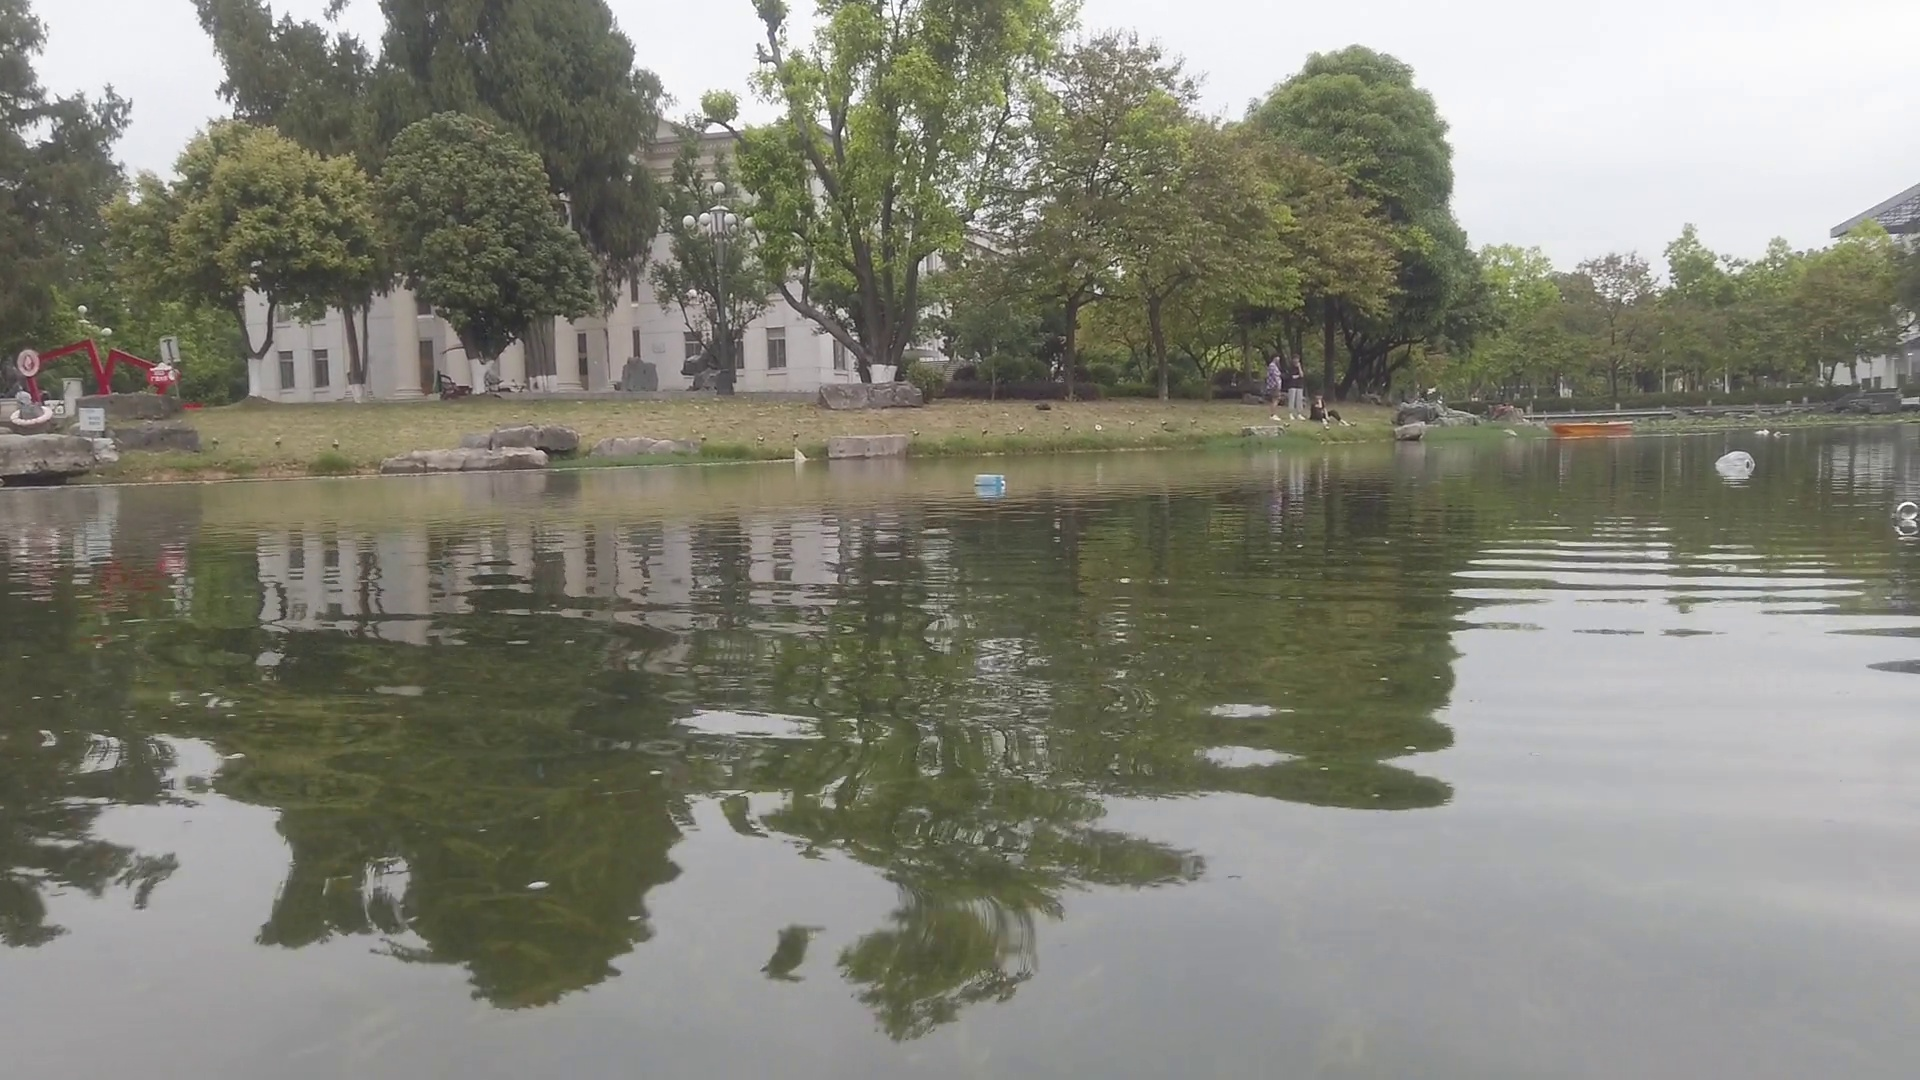bottle: (1898, 498, 1917, 520)
carton: (973, 473, 1005, 487)
plastic: (1720, 451, 1756, 468), (1756, 429, 1768, 434)
